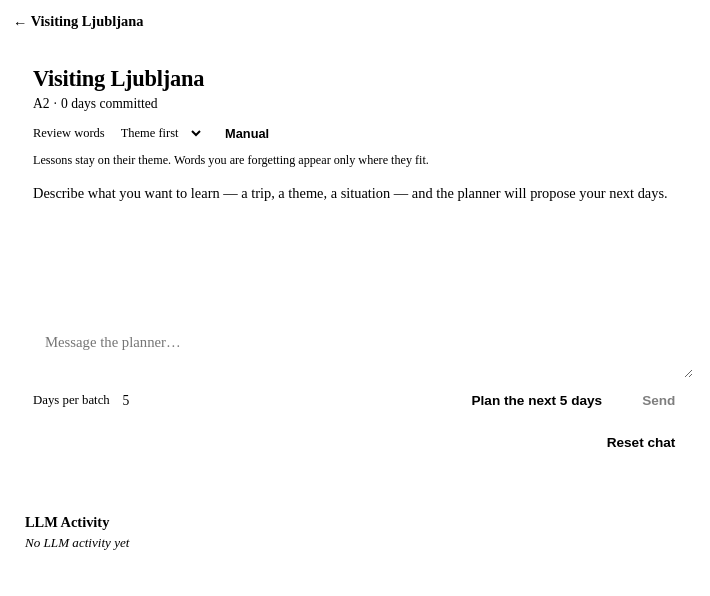
Test case: /c/[curriculumId]/plan page › a non-Error turn rejection shows as text
This screenshot has width=710, height=596.
Type "plan" into the text box with placeholder "Message the planner…". click: (363, 351)
box: x1=33 y1=325 x2=693 y2=378
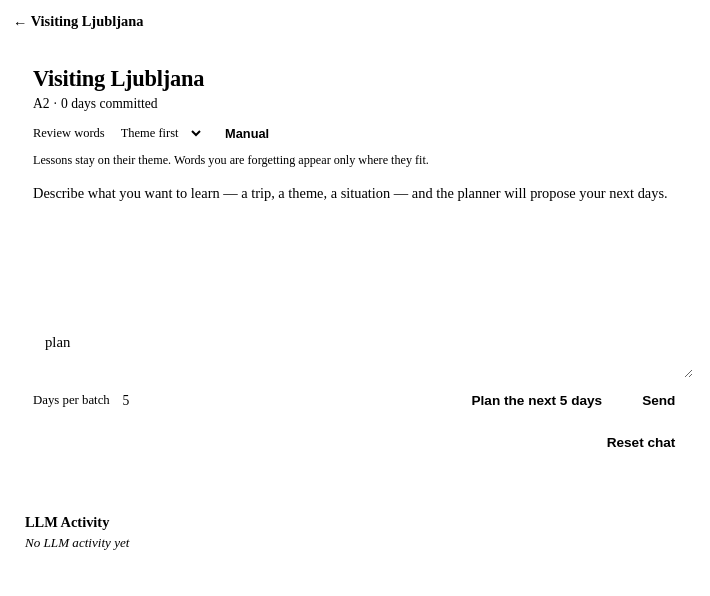
Click the button "Send". click: (659, 401)
box: x1=625 y1=386 x2=693 y2=415
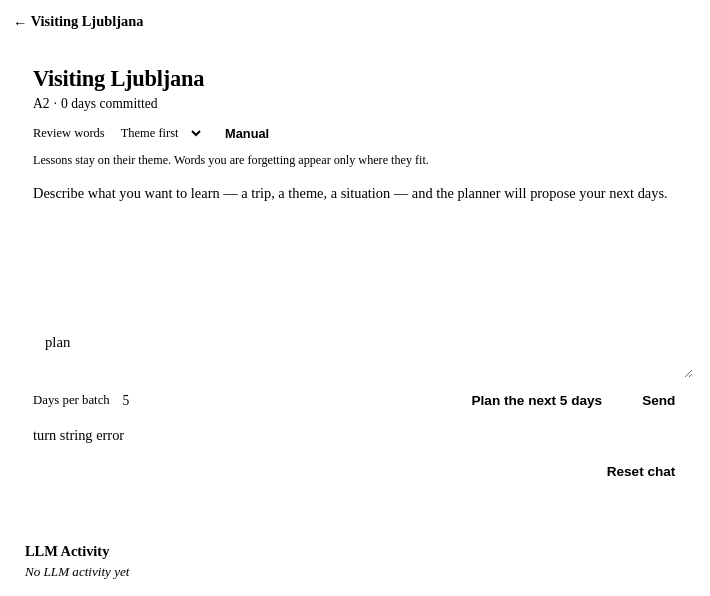
Now the text "turn string error" is shown, box x1=33 y1=427 x2=124 y2=443
